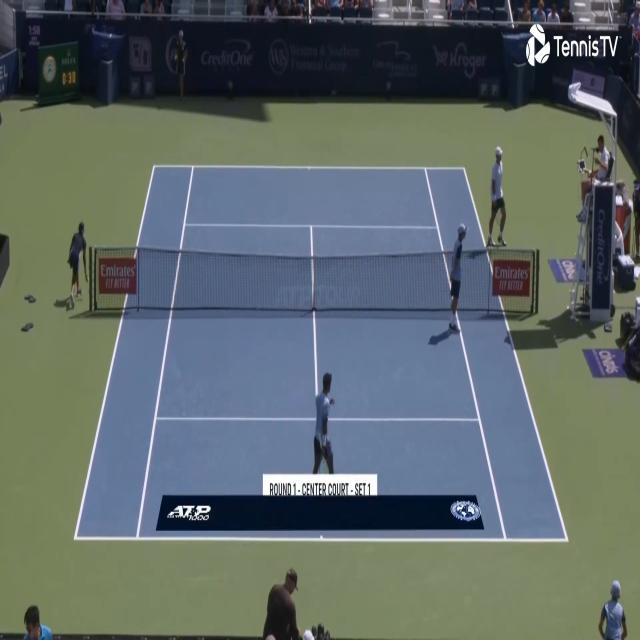tennis-player: (304, 368, 336, 495), (485, 144, 510, 249)
